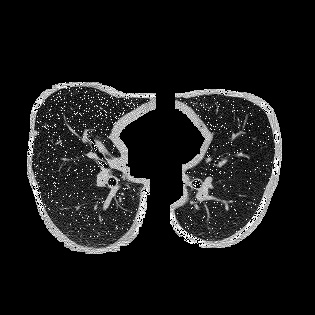PN: (33, 131, 37, 135)
